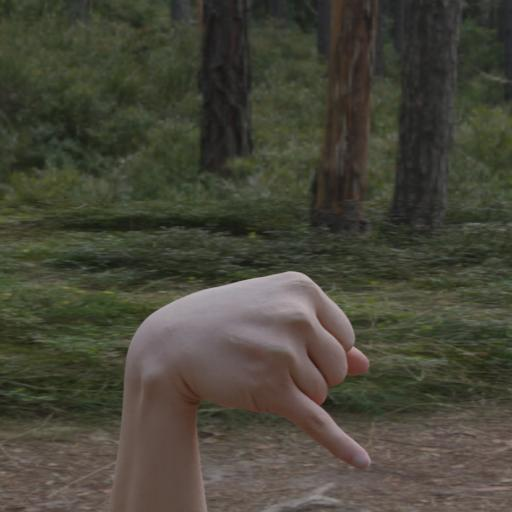J: (100, 261, 387, 512)
